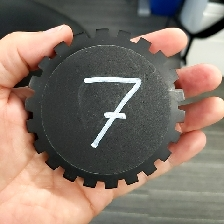gear: (23, 26, 187, 190)
